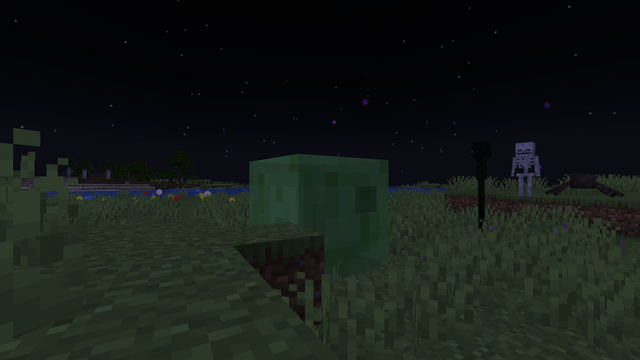araignees: (550, 171, 613, 197)
endermens: (466, 137, 496, 233)
slimes: (249, 148, 391, 277)
squelettes: (512, 141, 538, 196)
